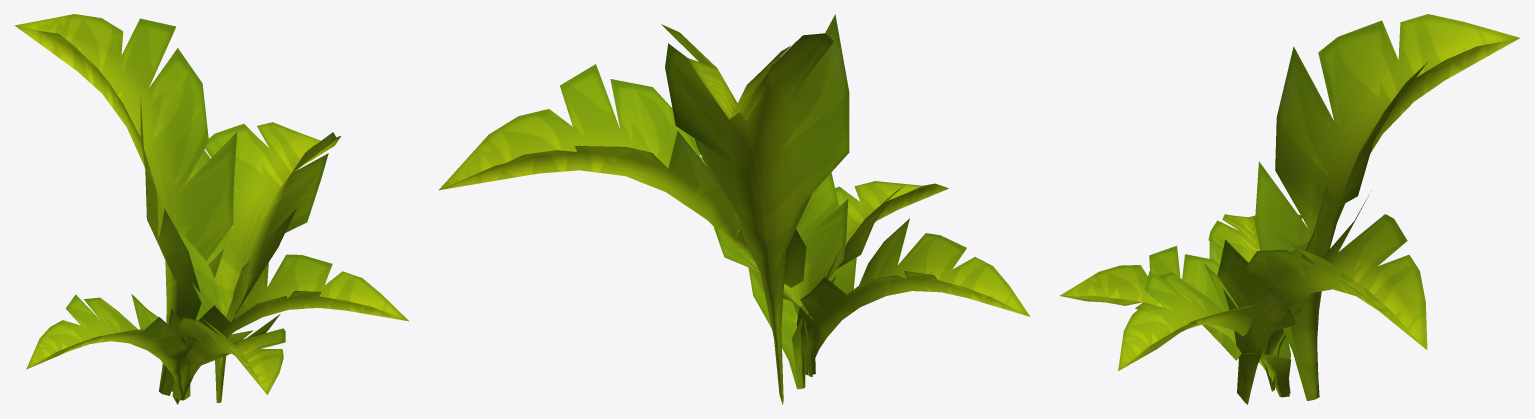
The model's file is BushPalm_02.FBX.
3 views of the same model, side by side, from view 1: azimuth 30°, elevation 25°; view 2: azimuth 150°, elevation 25°; view 3: azimuth 270°, elevation 25° (orthographic). The views are drawn at different scales.
Visible parts, largest first — view 1: BushPalm_02; view 2: BushPalm_02; view 3: BushPalm_02.
Boxes of the visible parts, x1,y1,x2,y2 form: BushPalm_02: (14, 14, 409, 404); BushPalm_02: (439, 14, 1030, 404); BushPalm_02: (1060, 14, 1519, 404).
Bounding box in the file's own units: 376 × 307 × 357.
